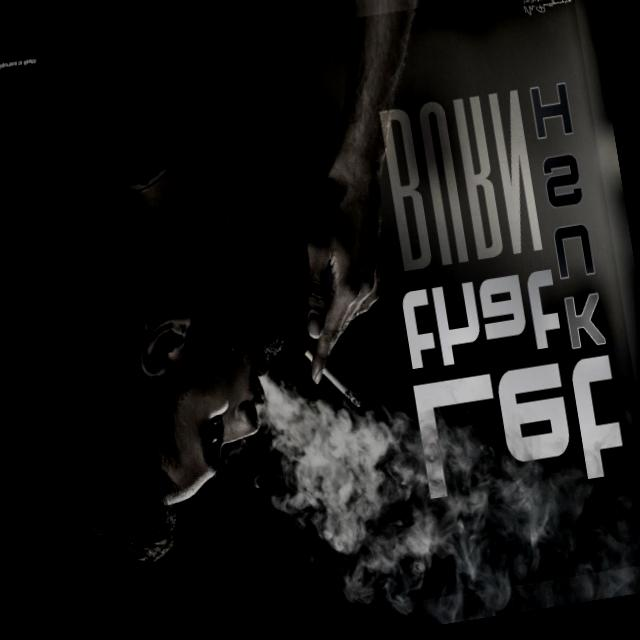cigarette: (282, 308, 386, 440)
